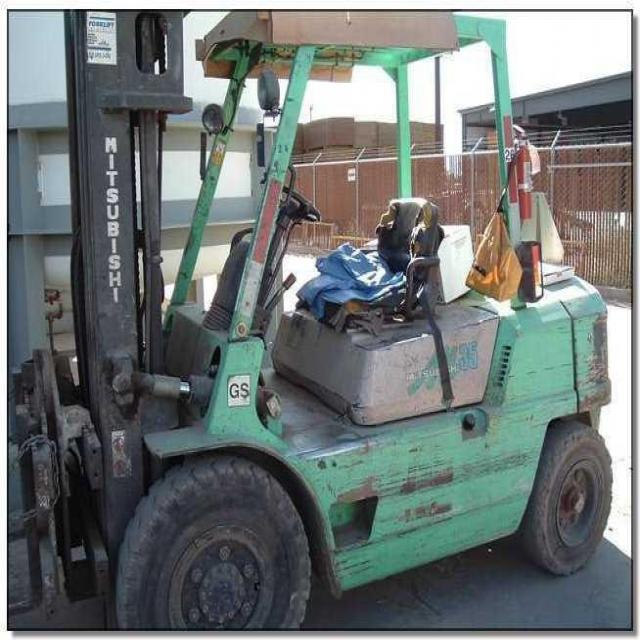Chariot elevateur: (9, 12, 614, 628)
